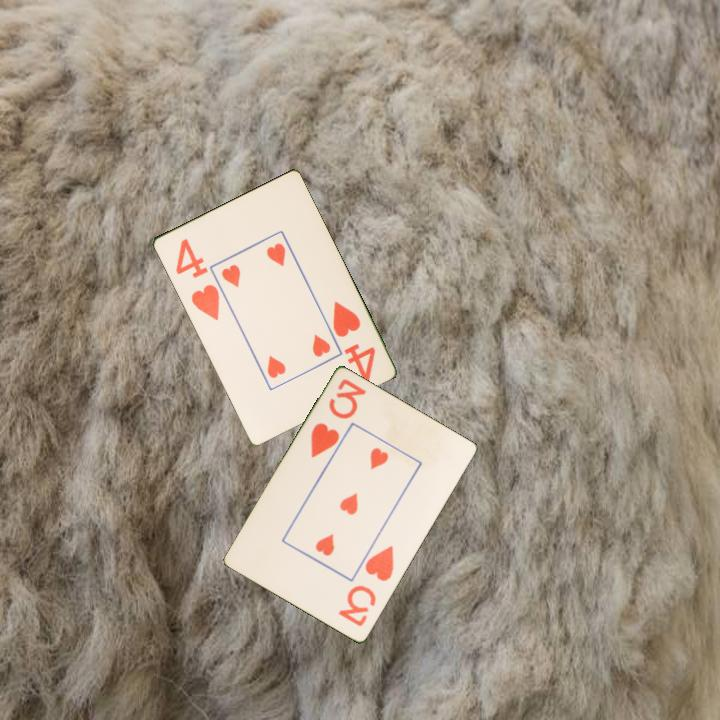3h: (335, 542, 397, 630), (307, 375, 369, 461)
4h: (171, 235, 222, 323), (329, 297, 378, 385)
